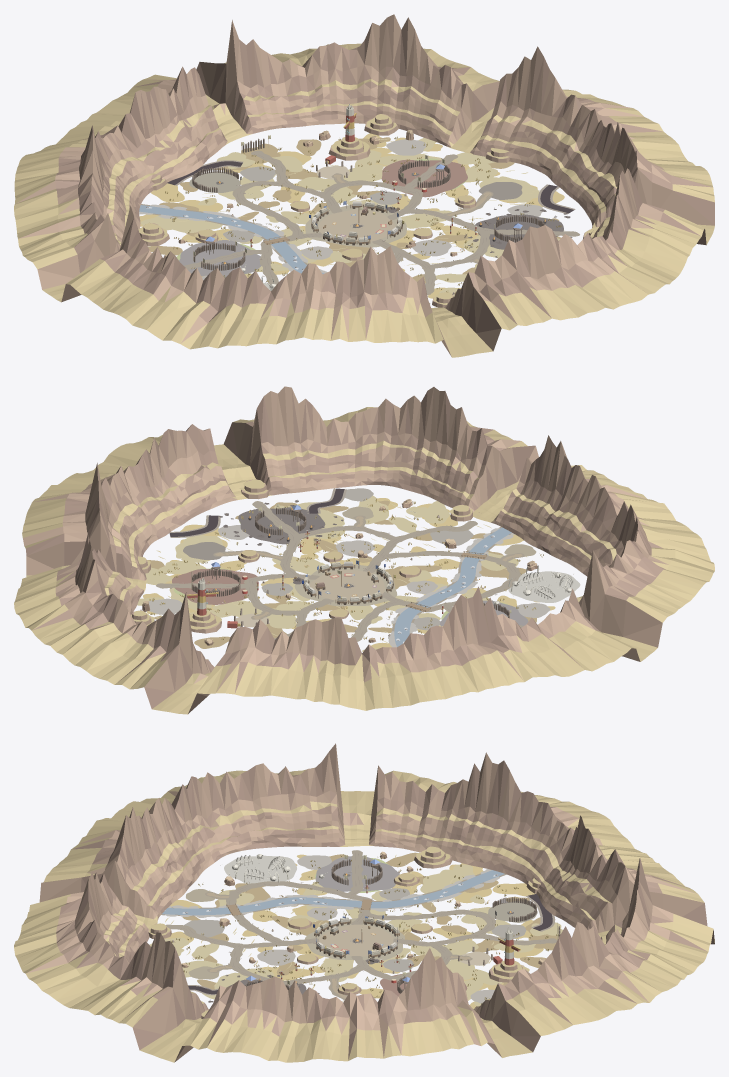
The model's file is map_field_steppe.glb.
The picture shows the model from 3 angles, top to bottom: view 1: azimuth 30°, elevation 25°; view 2: azimuth 150°, elevation 25°; view 3: azimuth 270°, elevation 25°; orthographic projection. The views are drawn at different scales.
Parts seen in each view (by area): view 1: Z_field_steppe_penhascos, Z_field_steppe_chao_front_war, Z_field_steppe_det_chao_0_-2, Z_field_steppe_praca_posto, Z_field_steppe_agua_rio_1, Z_field_steppe_chao_front_trolls, Z_field_steppe_det_chao_-1_-2, Z_field_steppe_chao_front_fire, Z_field_steppe_det_chao_1_1, Z_field_steppe_det_chao_0_-3, Z_field_steppe_det_chao_-3_-2, Z_field_steppe_det_chao_-2_0 (+19 smaller); view 2: Z_field_steppe_penhascos, Z_field_steppe_agua_rio_1, Z_field_steppe_chao_front_fire, Z_field_steppe_praca_posto, Z_field_steppe_det_chao_0_2, Z_field_steppe_chao_mamutes, Z_field_steppe_det_chao_0_-2, Z_field_steppe_chao_front_war, Z_field_steppe_det_chao_1_1, Z_field_steppe_det_chao_0_1, Z_field_steppe_det_chao_-2_0, Z_field_steppe_det_chao_0_0 (+14 smaller); view 3: Z_field_steppe_penhascos, Z_field_steppe_agua_rio_1, Z_field_steppe_chao_front_trolls, Z_field_steppe_praca_posto, Z_field_steppe_chao_mamutes, Z_field_steppe_det_chao_-1_-2, Z_field_steppe_det_chao_0_-2, Z_field_steppe_det_chao_-2_0, Z_field_steppe_det_chao_-3_-2, Z_field_steppe_det_chao_1_1, Z_field_steppe_det_chao_-2_-2, Z_field_steppe_det_chao_0_1 (+18 smaller).
Boxes of the visible parts, bbox=[...] form: Z_field_steppe_penhascos: bbox=[14, 14, 714, 357]; Z_field_steppe_chao_front_war: bbox=[381, 159, 467, 197]; Z_field_steppe_det_chao_0_-2: bbox=[285, 164, 418, 202]; Z_field_steppe_praca_posto: bbox=[318, 209, 394, 241]; Z_field_steppe_agua_rio_1: bbox=[139, 205, 324, 273]; Z_field_steppe_chao_front_trolls: bbox=[179, 240, 261, 277]; Z_field_steppe_det_chao_-1_-2: bbox=[218, 153, 339, 234]; Z_field_steppe_chao_front_fire: bbox=[475, 214, 563, 249]; Z_field_steppe_det_chao_1_1: bbox=[408, 209, 573, 258]; Z_field_steppe_det_chao_0_-3: bbox=[249, 139, 321, 172]; Z_field_steppe_det_chao_-3_-2: bbox=[139, 204, 222, 232]; Z_field_steppe_det_chao_-2_0: bbox=[184, 232, 333, 284]; Z_field_steppe_penhascos: bbox=[14, 386, 714, 714]; Z_field_steppe_agua_rio_1: bbox=[394, 527, 511, 646]; Z_field_steppe_chao_front_fire: bbox=[238, 507, 325, 544]; Z_field_steppe_praca_posto: bbox=[309, 569, 384, 601]; Z_field_steppe_det_chao_0_2: bbox=[358, 497, 449, 532]; Z_field_steppe_chao_mamutes: bbox=[506, 571, 580, 602]; Z_field_steppe_det_chao_0_-2: bbox=[212, 581, 309, 638]; Z_field_steppe_chao_front_war: bbox=[172, 569, 258, 604]; Z_field_steppe_det_chao_1_1: bbox=[254, 502, 345, 573]; Z_field_steppe_det_chao_0_1: bbox=[298, 517, 475, 571]; Z_field_steppe_det_chao_-2_0: bbox=[382, 564, 523, 626]; Z_field_steppe_det_chao_0_0: bbox=[272, 546, 378, 583]; Z_field_steppe_penhascos: bbox=[14, 743, 714, 1062]; Z_field_steppe_agua_rio_1: bbox=[162, 870, 504, 915]; Z_field_steppe_chao_front_trolls: bbox=[315, 856, 399, 891]; Z_field_steppe_praca_posto: bbox=[319, 924, 393, 956]; Z_field_steppe_chao_mamutes: bbox=[224, 855, 296, 886]; Z_field_steppe_det_chao_-1_-2: bbox=[368, 907, 549, 946]; Z_field_steppe_det_chao_0_-2: bbox=[394, 939, 500, 980]; Z_field_steppe_det_chao_-2_0: bbox=[232, 853, 372, 924]; Z_field_steppe_det_chao_-3_-2: bbox=[420, 863, 499, 893]; Z_field_steppe_det_chao_1_1: bbox=[202, 965, 362, 999]; Z_field_steppe_det_chao_-2_-2: bbox=[417, 876, 498, 912]; Z_field_steppe_det_chao_0_1: bbox=[170, 925, 317, 982].
Size of the model in its own units: 360 by 57.26 by 368.
